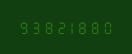eight: (41, 20, 52, 34), (77, 20, 88, 34), (89, 20, 100, 34)
nine: (17, 20, 28, 34)
one: (65, 20, 76, 34)
three: (29, 20, 40, 34)
two: (53, 20, 64, 34)
zero: (101, 20, 112, 34)
